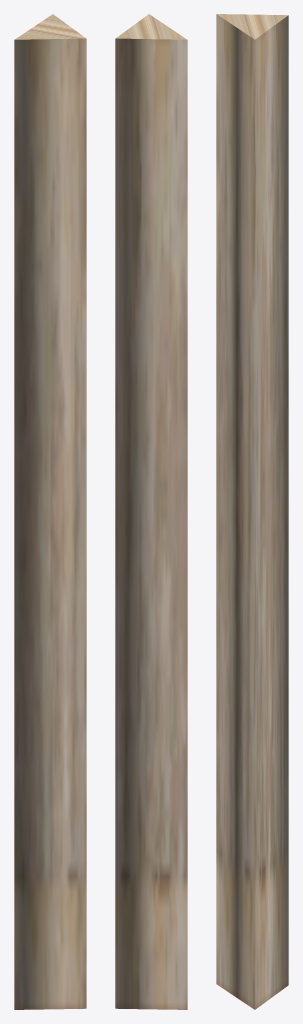
The model's file is thm_tato_debris_s03_l3.fbx.
The picture shows the model from 3 angles, left to right: view 1: azimuth 30°, elevation 25°; view 2: azimuth 150°, elevation 25°; view 3: azimuth 330°, elevation 25°; orthographic projection.
Parts seen in each view (by area): view 1: mesh_node; view 2: mesh_node; view 3: mesh_node.
Boxes of the visible parts, box(x1,y1,x2,y2) form: mesh_node: box(14, 14, 86, 1009); mesh_node: box(115, 14, 187, 1009); mesh_node: box(216, 14, 288, 1009).
Size of the model in its own units: 0.2511 by 4.21 by 0.264.
